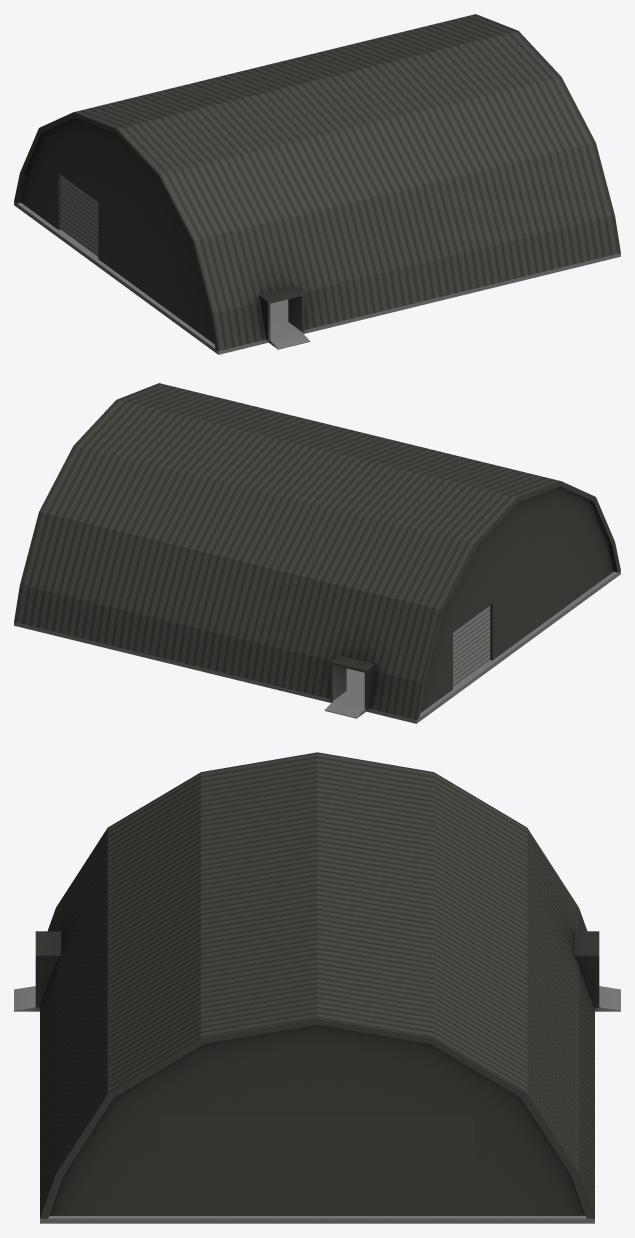
The model's file is Hanger.fbx.
The picture shows the model from 3 angles, top to bottom: view 1: azimuth 30°, elevation 25°; view 2: azimuth 150°, elevation 25°; view 3: azimuth 270°, elevation 25°; orthographic projection. The views are drawn at different scales.
Parts seen in each view (by area): view 1: Hanger, Hanger_Floor, Hanger_Rear_Door; view 2: Hanger, Hanger_Floor, Hanger_Rear_Door; view 3: Hanger, Hanger_Main_Left, Hanger_Main_Right, Hanger_Floor.
Part boxes in pixels (left/top/right/bottom): Hanger: left=14, top=14, right=620, bottom=350; Hanger_Floor: left=14, top=202, right=620, bottom=354; Hanger_Rear_Door: left=60, top=175, right=98, bottom=256; Hanger: left=14, top=383, right=620, bottom=719; Hanger_Floor: left=14, top=571, right=620, bottom=723; Hanger_Rear_Door: left=453, top=605, right=490, bottom=686; Hanger: left=35, top=752, right=599, bottom=1218; Hanger_Main_Left: left=160, top=1115, right=317, bottom=1215; Hanger_Main_Right: left=317, top=1115, right=474, bottom=1215; Hanger_Floor: left=14, top=986, right=620, bottom=1223.
Size of the model in its own units: 15.38 by 5.51 by 14.8.
